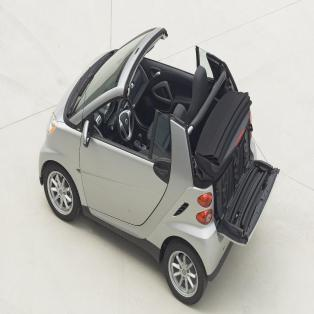Auto: (39, 27, 281, 304)
